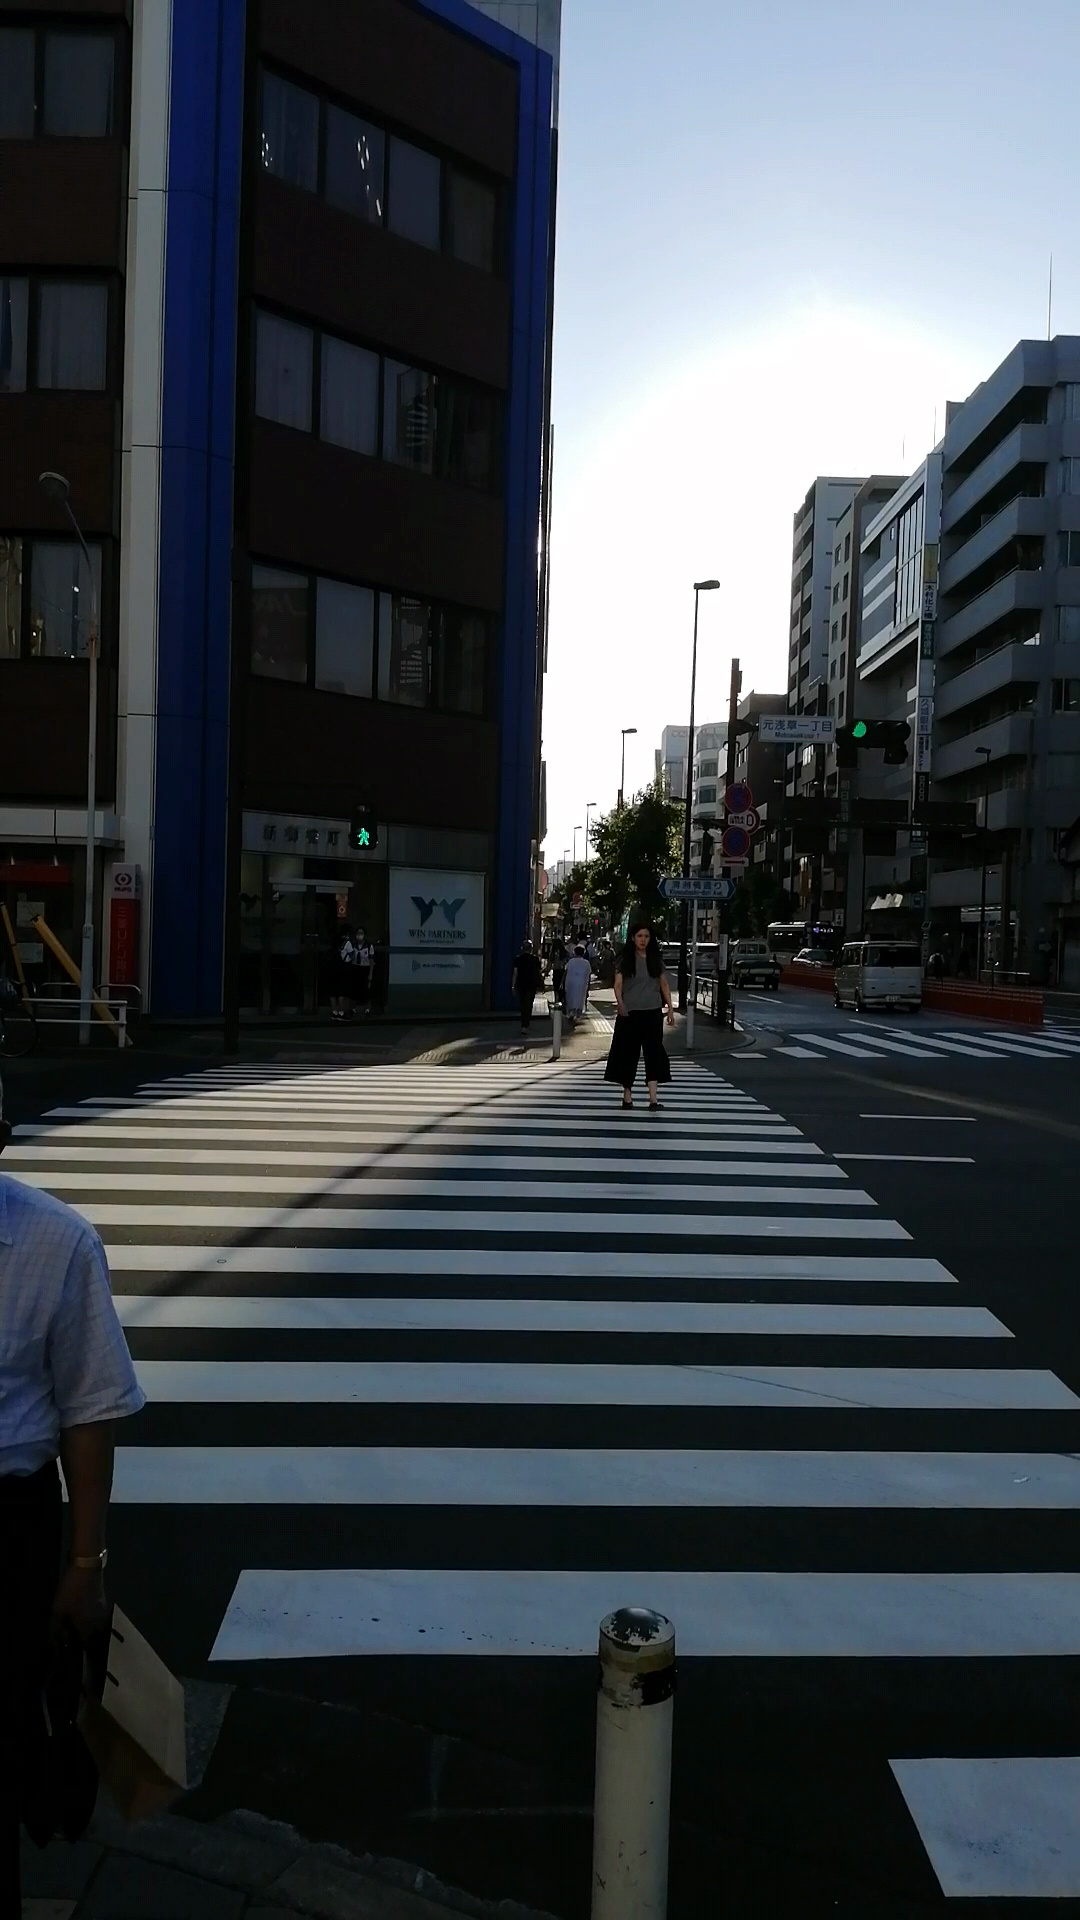green: (348, 789, 380, 852)
